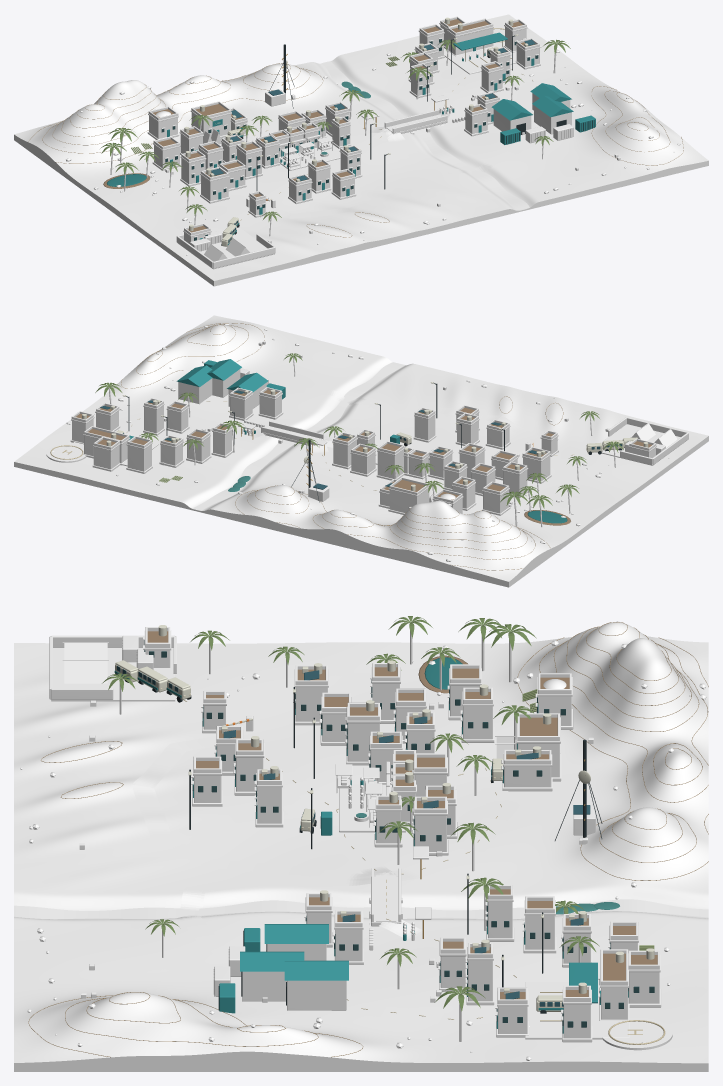
Rendered from map.glb.
3 renders of one model, top to bottom at view 1: azimuth 30°, elevation 25°; view 2: azimuth 150°, elevation 25°; view 3: azimuth 270°, elevation 25°, orthographic. The views are drawn at different scales.
Parts seen in each view (by area): view 1: LANDSCAPE_desert, Terrain exposed edge, WADI_bed, Contours of the dry ridges, N07_terminal_apron, N00_compound_pad, R02_road, R08_road, R05_road, N02_market_plaza, BLD_00_walls, Warehouse pitched roof (+10 smaller); view 2: LANDSCAPE_desert, Terrain exposed edge, WADI_bed, Contours of the dry ridges, R12_road, N00_compound_pad, N03_clinic_main_walls, BLD_13_walls, N10_warehouse.002, BLD_19_walls, R02_road, BLD_20_walls (+14 smaller); view 3: LANDSCAPE_desert, Terrain exposed edge, WADI_bed, Contours of the dry ridges, N00_compound_pad, N07_terminal_apron, R12_road, R02_road, N10_warehouse.002, R08_road, R05_road, R10_road (+36 smaller).
Boxes of the visible parts, <box> form: LANDSCAPE_desert: <box>14,14,708,280</box>; Terrain exposed edge: <box>14,134,708,286</box>; WADI_bed: <box>321,61,529,210</box>; Contours of the dry ridges: <box>28,63,683,237</box>; N07_terminal_apron: <box>444,40,516,74</box>; N00_compound_pad: <box>177,227,274,269</box>; R02_road: <box>265,190,408,217</box>; R08_road: <box>387,130,487,173</box>; R05_road: <box>387,129,420,191</box>; N02_market_plaza: <box>279,143,340,170</box>; BLD_00_walls: <box>201,175,228,201</box>; Warehouse pitched roof: <box>491,99,532,120</box>; LANDSCAPE_desert: <box>14,315,708,581</box>; Terrain exposed edge: <box>14,436,708,587</box>; WADI_bed: <box>192,362,405,510</box>; Contours of the dry ridges: <box>121,323,563,570</box>; R12_road: <box>313,445,379,493</box>; N00_compound_pad: <box>600,424,687,465</box>; N03_clinic_main_walls: <box>389,489,429,513</box>; BLD_13_walls: <box>377,449,404,478</box>; N10_warehouse.002: <box>178,378,212,404</box>; BLD_19_walls: <box>127,444,151,471</box>; R02_road: <box>431,407,541,448</box>; BLD_20_walls: <box>93,445,119,469</box>; LANDSCAPE_desert: <box>14,622,708,1063</box>; Terrain exposed edge: <box>14,1051,708,1071</box>; WADI_bed: <box>14,899,708,919</box>; Contours of the dry ridges: <box>28,622,708,1057</box>; N00_compound_pad: <box>51,647,175,701</box>; N07_terminal_apron: <box>525,982,629,1039</box>; R12_road: <box>380,767,512,878</box>; R02_road: <box>135,737,215,840</box>; N10_warehouse.002: <box>287,980,346,1010</box>; R08_road: <box>181,874,386,917</box>; R05_road: <box>158,841,388,880</box>; R10_road: <box>346,992,497,1024</box>.
Size of the model in its own units: 40.01 by 5.19 by 28.01.
